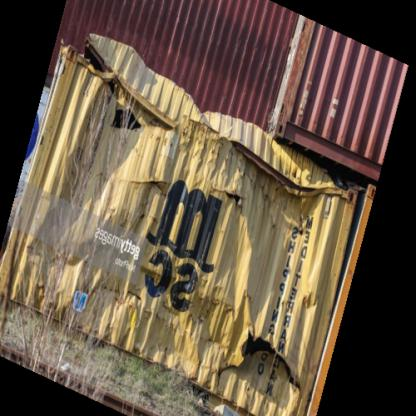Damage: (202, 120, 334, 217), (211, 285, 302, 396), (69, 29, 149, 132), (15, 220, 72, 320), (92, 279, 146, 314)
